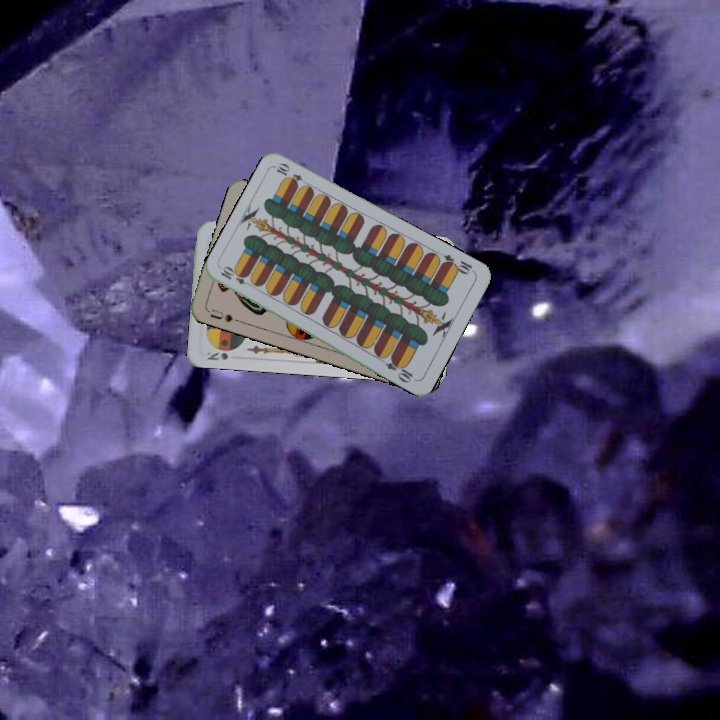E10: (438, 250, 477, 277), (217, 264, 256, 290)
SK: (203, 348, 231, 363)
SU: (204, 304, 243, 325)
